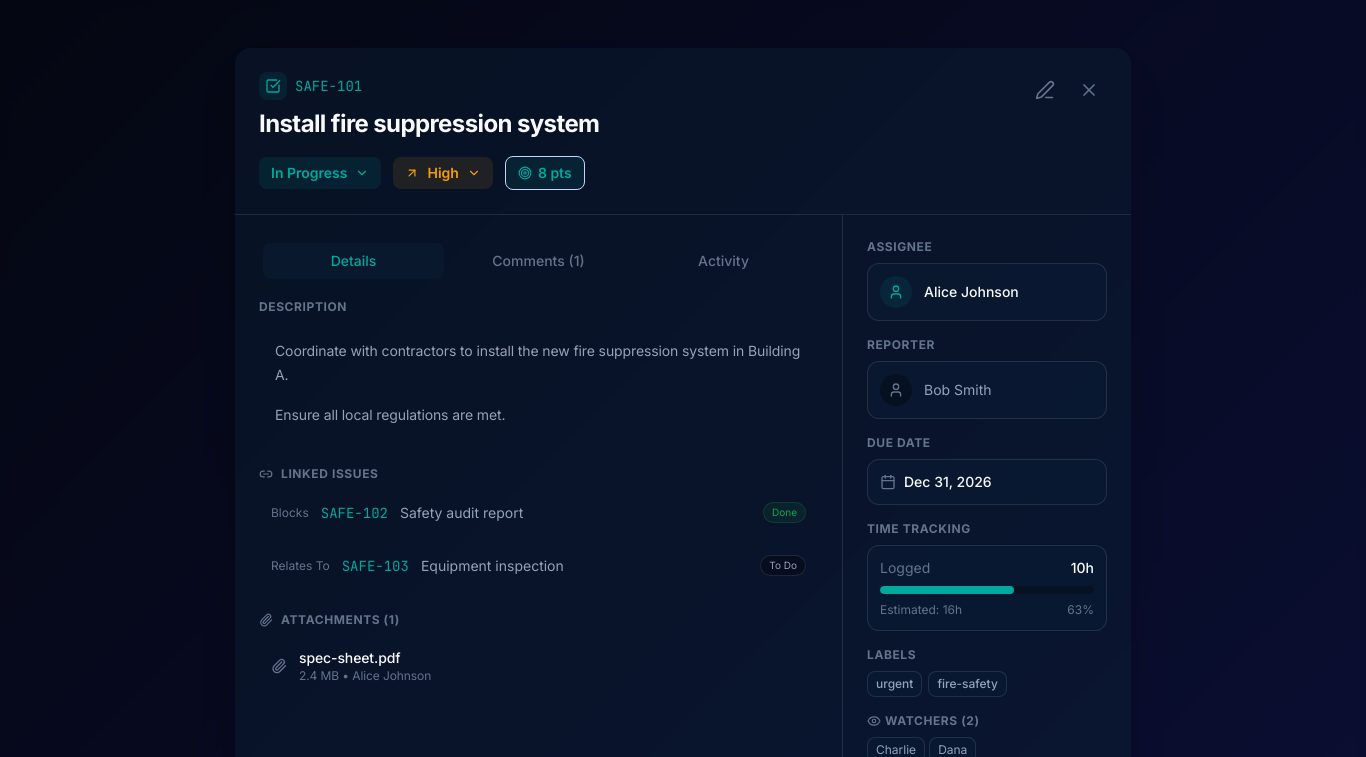
TaskDetailModal — inline edit › clicking edit icon enters edit mode for title
Click the button with class "lucide-pen-line": x=1045, y=90 [1027, 72, 1063, 108]
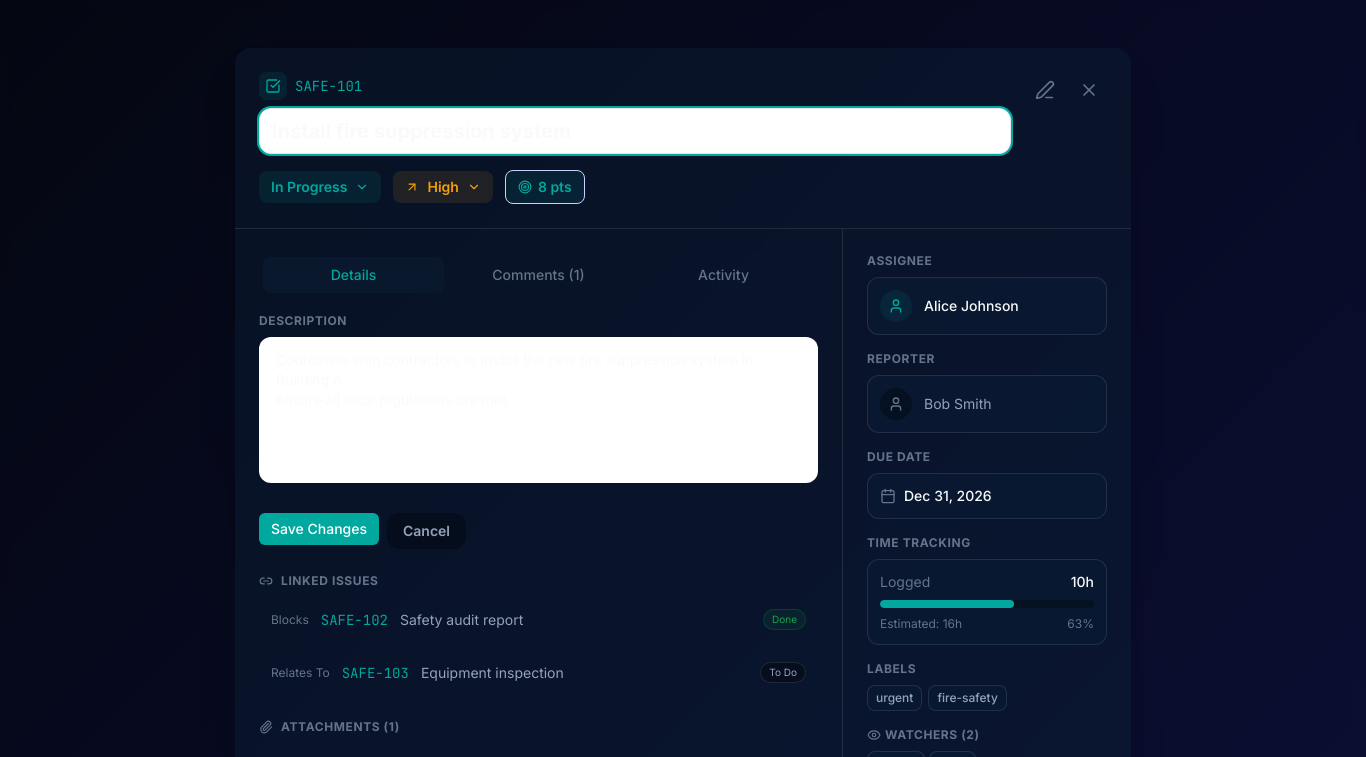
Now the field showing "Install fire suppression system" is shown, box [259, 108, 1011, 154]
